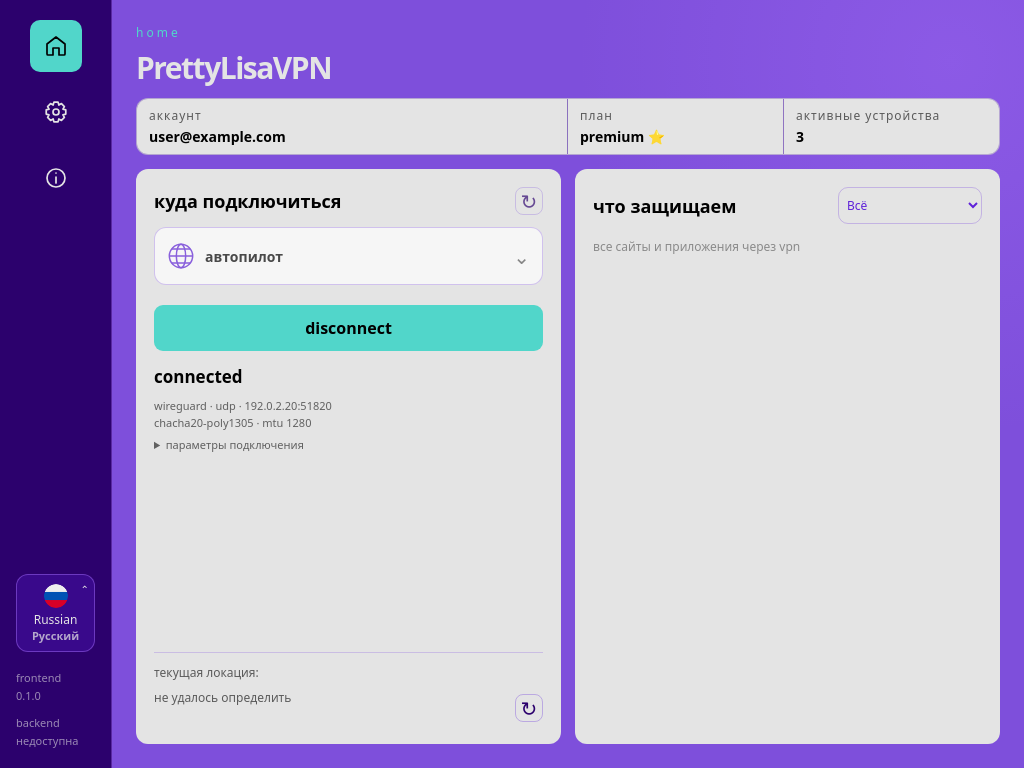
authenticated Home › shows public connection details only after confirmation
Expected: the element named "способ подключения" shows "WireGuard · UDP · 192.0.2.20:51820", x1=154 y1=398 x2=332 y2=452
Expected: the element named "способ подключения" shows "ChaCha20-Poly1305 · mtu 1280", x1=154 y1=398 x2=332 y2=452
What coordinates should you click on to do the following:
click the heading "параметры подключения"
I would click on:
 (235, 444)
Its box is x1=166 y1=437 x2=304 y2=452.
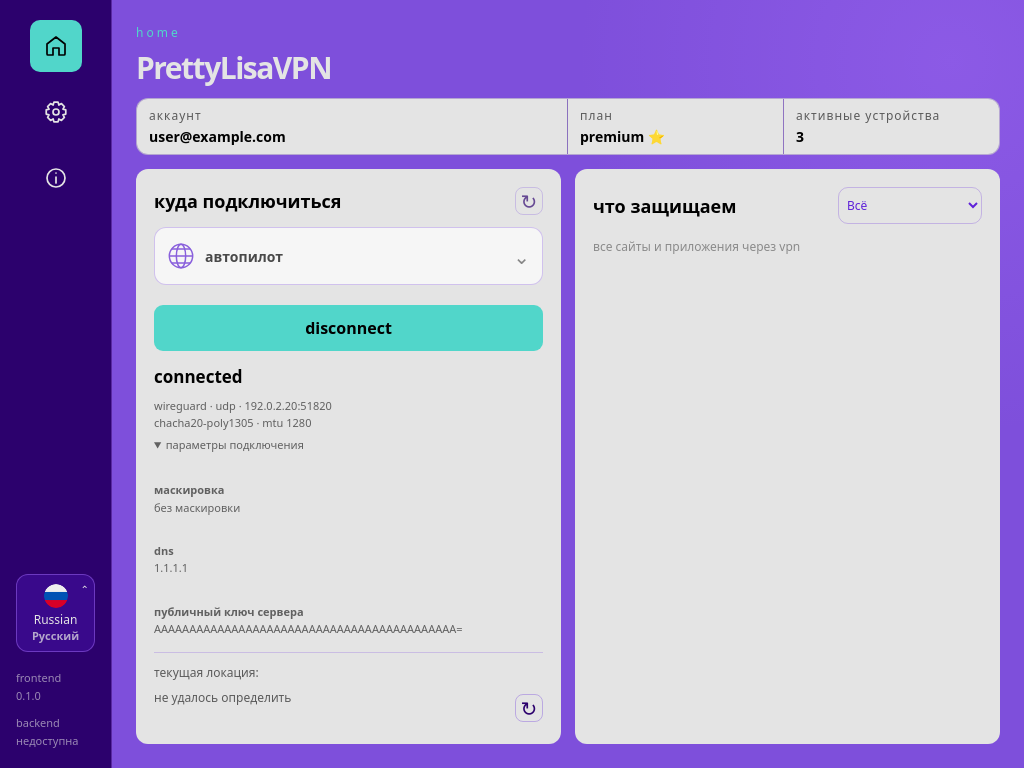
Expected: the element named "способ подключения" does not show "access-token", x1=154 y1=398 x2=462 y2=638
Result: the element named "способ подключения" shows "публичный ключ сервера" at x1=154 y1=604 x2=304 y2=619
